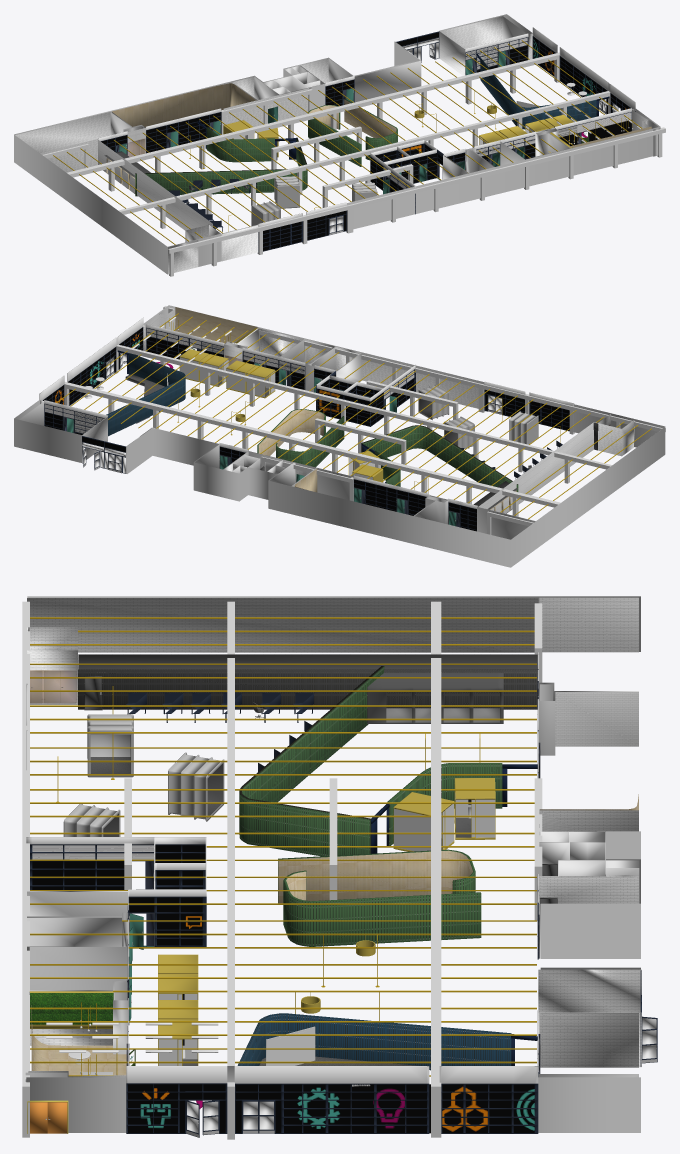
The model's file is tellus.dae.
The picture shows the model from 3 angles, top to bottom: view 1: azimuth 30°, elevation 25°; view 2: azimuth 150°, elevation 25°; view 3: azimuth 270°, elevation 25°; orthographic projection. The views are drawn at different scales.
Visible parts, largest first — view 1: TELLUS_arena_walls, TELLUS_arena_Pillars, TELLUS_arena_outerWalls, TELLUS_arena_tellus_windows_001, TELLUS_arena_windows, TELLUS_arena_blueScreen.001, TELLUS_arena_YellowPillars, TELLUS_arena_WAlls_002, TELLUS_arena_furniture_whiteBooths, TELLUS_arena_FURNITURE_001, TELLUS_arena_yellow_booths_double, TELLUS_arena_furniture_desks (+1 smaller); view 2: TELLUS_arena_outerWalls, TELLUS_arena_walls, TELLUS_arena_Pillars, TELLUS_arena_tellus_windows_001, TELLUS_arena_windows, TELLUS_arena_YellowPillars, TELLUS_arena_blueScreen.001, TELLUS_arena_WAlls_002, TELLUS_arena_furniture_whiteBooths, TELLUS_arena_FURNITURE_001, TELLUS_arena_yellow_booths_double, TELLUS_arena_r-aula_karmi_004; view 3: TELLUS_arena_walls, TELLUS_arena_YellowPillars, TELLUS_arena_blueScreen.001, TELLUS_arena_tellus_windows_001, TELLUS_arena_windows, TELLUS_arena_outerWalls, TELLUS_arena_Pillars, TELLUS_arena_WAlls_002, TELLUS_arena_furniture_whiteBooths, TELLUS_arena_yellow_booths_double, TELLUS_arena_booths, TELLUS_arena_FURNITURE_001 (+1 smaller).
Boxes of the visible parts, <box> form: TELLUS_arena_walls: <box>15,16,649,274</box>; TELLUS_arena_Pillars: <box>43,52,665,276</box>; TELLUS_arena_outerWalls: <box>14,14,660,274</box>; TELLUS_arena_tellus_windows_001: <box>101,32,631,250</box>; TELLUS_arena_windows: <box>98,27,635,252</box>; TELLUS_arena_blueScreen.001: <box>135,99,397,196</box>; TELLUS_arena_YellowPillars: <box>53,40,642,244</box>; TELLUS_arena_WAlls_002: <box>197,53,651,159</box>; TELLUS_arena_furniture_whiteBooths: <box>251,176,377,226</box>; TELLUS_arena_FURNITURE_001: <box>479,114,573,145</box>; TELLUS_arena_yellow_booths_double: <box>223,82,586,157</box>; TELLUS_arena_furniture_desks: <box>168,179,256,231</box>; TELLUS_arena_outerWalls: <box>14,305,665,567</box>; TELLUS_arena_walls: <box>19,309,634,539</box>; TELLUS_arena_Pillars: <box>64,306,665,534</box>; TELLUS_arena_tellus_windows_001: <box>43,328,569,531</box>; TELLUS_arena_windows: <box>39,317,574,530</box>; TELLUS_arena_YellowPillars: <box>56,313,651,519</box>; TELLUS_arena_blueScreen.001: <box>257,409,518,491</box>; TELLUS_arena_WAlls_002: <box>106,307,386,483</box>; TELLUS_arena_furniture_whiteBooths: <box>418,384,538,448</box>; TELLUS_arena_FURNITURE_001: <box>179,349,275,398</box>; TELLUS_arena_yellow_booths_double: <box>84,377,383,482</box>; TELLUS_arena_r-aula_karmi_004: <box>82,436,125,473</box>; TELLUS_arena_walls: <box>27,597,641,1077</box>; TELLUS_arena_YellowPillars: <box>30,617,536,1076</box>; TELLUS_arena_blueScreen.001: <box>239,666,502,946</box>; TELLUS_arena_tellus_windows_001: <box>32,845,534,1133</box>; TELLUS_arena_windows: <box>26,652,538,1133</box>; TELLUS_arena_outerWalls: <box>26,596,640,1132</box>; TELLUS_arena_Pillars: <box>22,601,542,1139</box>; TELLUS_arena_WAlls_002: <box>31,764,537,1075</box>; TELLUS_arena_furniture_whiteBooths: <box>63,714,224,836</box>; TELLUS_arena_yellow_booths_double: <box>301,778,495,1013</box>; TELLUS_arena_booths: <box>367,673,503,723</box>; TELLUS_arena_FURNITURE_001: <box>158,954,198,1065</box>.
Size of the model in its own units: 67.25 by 37.17 by 4.58.
129 materials, 35 textured.
